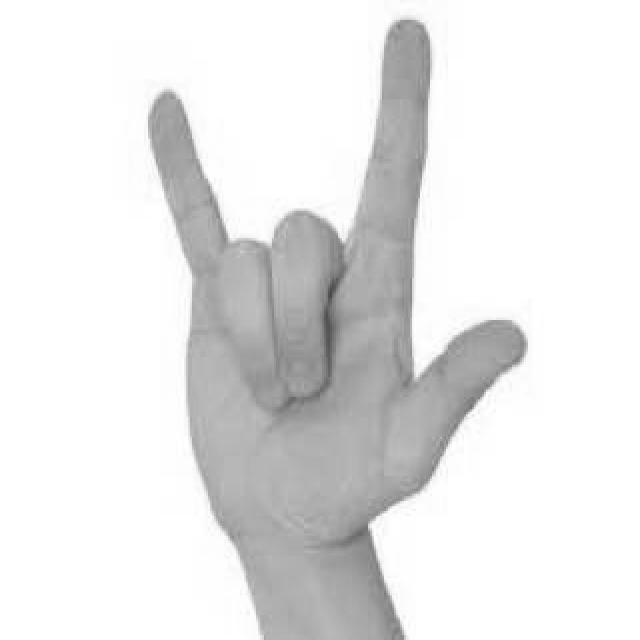i love you: (140, 10, 533, 570)
